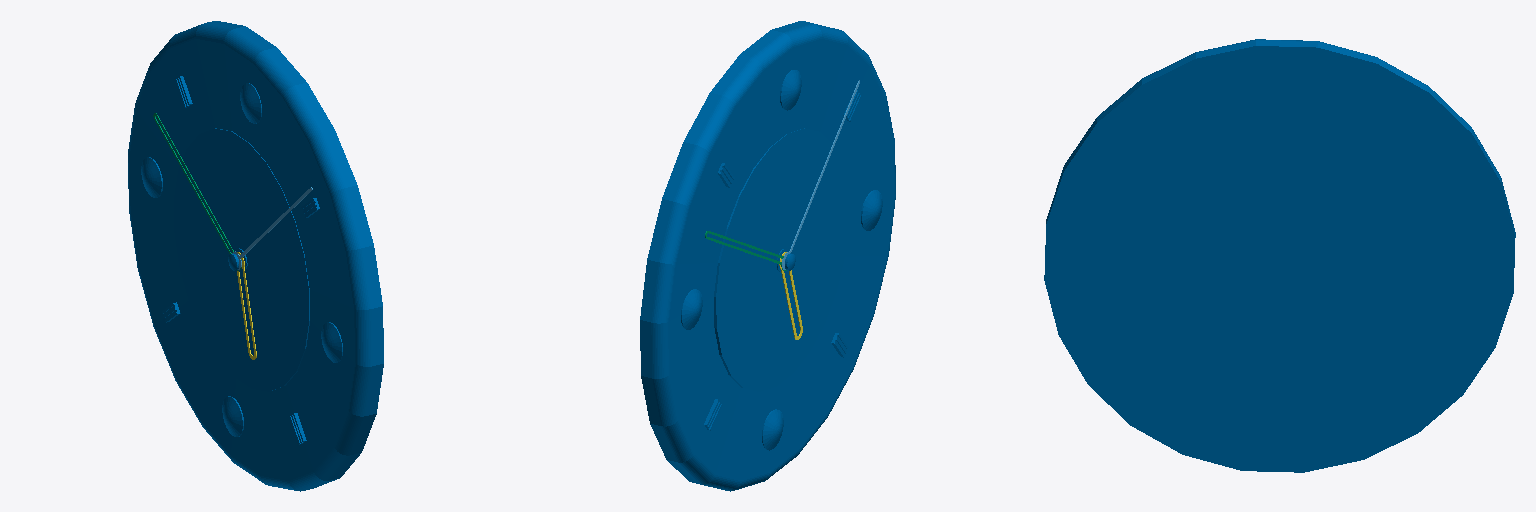
The robot description file, URDF, robot "partnet_c07b92d1d7930faab594bbf2c494ab81":
<?xml version="1.0" ?>
<robot name="partnet_c07b92d1d7930faab594bbf2c494ab81">
	<link name="base"/>
	<link name="link_0">
		<visual name="hand-7">
			<origin xyz="-0.008302000000000004 0.0034610000000000196 0"/>
			<geometry>
				<mesh filename="textured_objs/original-2.obj"/>
			</geometry>
		</visual>
		<collision>
			<origin xyz="-0.008302000000000004 0.0034610000000000196 0"/>
			<geometry>
				<mesh filename="textured_objs/original-2.obj"/>
			</geometry>
		</collision>
	</link>
	<joint name="joint_0" type="continuous">
		<origin xyz="0.008302000000000004 -0.0034610000000000196 0"/>
		<axis xyz="0 0 1"/>
		<child link="link_0"/>
		<parent link="link_3"/>
	</joint>
	<link name="link_1">
		<visual name="hand-8">
			<origin xyz="-0.008302000000000004 0.0034610000000000196 0"/>
			<geometry>
				<mesh filename="textured_objs/original-3.obj"/>
			</geometry>
		</visual>
		<collision>
			<origin xyz="-0.008302000000000004 0.0034610000000000196 0"/>
			<geometry>
				<mesh filename="textured_objs/original-3.obj"/>
			</geometry>
		</collision>
	</link>
	<joint name="joint_1" type="continuous">
		<origin xyz="0.008302000000000004 -0.0034610000000000196 0"/>
		<axis xyz="0 0 1"/>
		<child link="link_1"/>
		<parent link="link_3"/>
	</joint>
	<link name="link_2">
		<visual name="hand-9">
			<origin xyz="-0.008302000000000004 0.0034610000000000196 0"/>
			<geometry>
				<mesh filename="textured_objs/original-4.obj"/>
			</geometry>
		</visual>
		<collision>
			<origin xyz="-0.008302000000000004 0.0034610000000000196 0"/>
			<geometry>
				<mesh filename="textured_objs/original-4.obj"/>
			</geometry>
		</collision>
	</link>
	<joint name="joint_2" type="continuous">
		<origin xyz="0.008302000000000004 -0.0034610000000000196 0"/>
		<axis xyz="0 0 1"/>
		<child link="link_2"/>
		<parent link="link_3"/>
	</joint>
	<link name="link_3">
		<visual name="surface-5">
			<origin xyz="0 0 0"/>
			<geometry>
				<mesh filename="textured_objs/original-14.obj"/>
			</geometry>
		</visual>
		<visual name="frame-6">
			<origin xyz="0 0 0"/>
			<geometry>
				<mesh filename="textured_objs/original-1.obj"/>
			</geometry>
		</visual>
		<visual name="frame-6">
			<origin xyz="0 0 0"/>
			<geometry>
				<mesh filename="textured_objs/original-9.obj"/>
			</geometry>
		</visual>
		<visual name="frame-6">
			<origin xyz="0 0 0"/>
			<geometry>
				<mesh filename="textured_objs/original-12.obj"/>
			</geometry>
		</visual>
		<visual name="frame-6">
			<origin xyz="0 0 0"/>
			<geometry>
				<mesh filename="textured_objs/original-8.obj"/>
			</geometry>
		</visual>
		<visual name="frame-6">
			<origin xyz="0 0 0"/>
			<geometry>
				<mesh filename="textured_objs/original-13.obj"/>
			</geometry>
		</visual>
		<visual name="frame-6">
			<origin xyz="0 0 0"/>
			<geometry>
				<mesh filename="textured_objs/original-11.obj"/>
			</geometry>
		</visual>
		<visual name="frame-6">
			<origin xyz="0 0 0"/>
			<geometry>
				<mesh filename="textured_objs/original-7.obj"/>
			</geometry>
		</visual>
		<visual name="frame-6">
			<origin xyz="0 0 0"/>
			<geometry>
				<mesh filename="textured_objs/original-10.obj"/>
			</geometry>
		</visual>
		<visual name="frame-6">
			<origin xyz="0 0 0"/>
			<geometry>
				<mesh filename="textured_objs/original-6.obj"/>
			</geometry>
		</visual>
		<collision>
			<origin xyz="0 0 0"/>
			<geometry>
				<mesh filename="textured_objs/original-14.obj"/>
			</geometry>
		</collision>
		<collision>
			<origin xyz="0 0 0"/>
			<geometry>
				<mesh filename="textured_objs/original-1.obj"/>
			</geometry>
		</collision>
		<collision>
			<origin xyz="0 0 0"/>
			<geometry>
				<mesh filename="textured_objs/original-9.obj"/>
			</geometry>
		</collision>
		<collision>
			<origin xyz="0 0 0"/>
			<geometry>
				<mesh filename="textured_objs/original-12.obj"/>
			</geometry>
		</collision>
		<collision>
			<origin xyz="0 0 0"/>
			<geometry>
				<mesh filename="textured_objs/original-8.obj"/>
			</geometry>
		</collision>
		<collision>
			<origin xyz="0 0 0"/>
			<geometry>
				<mesh filename="textured_objs/original-13.obj"/>
			</geometry>
		</collision>
		<collision>
			<origin xyz="0 0 0"/>
			<geometry>
				<mesh filename="textured_objs/original-11.obj"/>
			</geometry>
		</collision>
		<collision>
			<origin xyz="0 0 0"/>
			<geometry>
				<mesh filename="textured_objs/original-7.obj"/>
			</geometry>
		</collision>
		<collision>
			<origin xyz="0 0 0"/>
			<geometry>
				<mesh filename="textured_objs/original-10.obj"/>
			</geometry>
		</collision>
		<collision>
			<origin xyz="0 0 0"/>
			<geometry>
				<mesh filename="textured_objs/original-6.obj"/>
			</geometry>
		</collision>
	</link>
	<joint name="joint_3" type="fixed">
		<origin rpy="1.570796326794897 0 -1.570796326794897" xyz="0 0 0"/>
		<child link="link_3"/>
		<parent link="base"/>
	</joint>
</robot>

--- What the picture shows (computed from the rendered views, not written in the file) ---
The picture shows the robot from 3 angles, left to right: view 1: azimuth 30°, elevation 25°; view 2: azimuth 150°, elevation 25°; view 3: azimuth 270°, elevation 25°; orthographic projection.
Robot: partnet_c07b92d1d7930faab594bbf2c494ab81 — 5 links, 4 joints (3 continuous, 1 fixed); root link base; default pose: every joint at zero.
Links seen in each view (by area): view 1: link_3, link_1; view 2: link_3; view 3: link_3.
Boxes of the visible links, x1,y1,x2,y2 form: link_3: [128, 21, 383, 491]; link_1: [153, 113, 241, 270]; link_3: [640, 21, 895, 491]; link_3: [1044, 39, 1515, 472].
Size in the robot's own frame: 0.1628 by 1.99 by 1.99 metres.
13 mesh visuals loaded from 13 distinct referenced files (13 OBJ).
